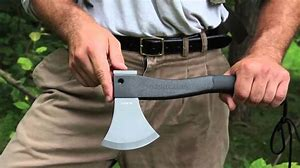axe: (99, 67, 290, 153)
